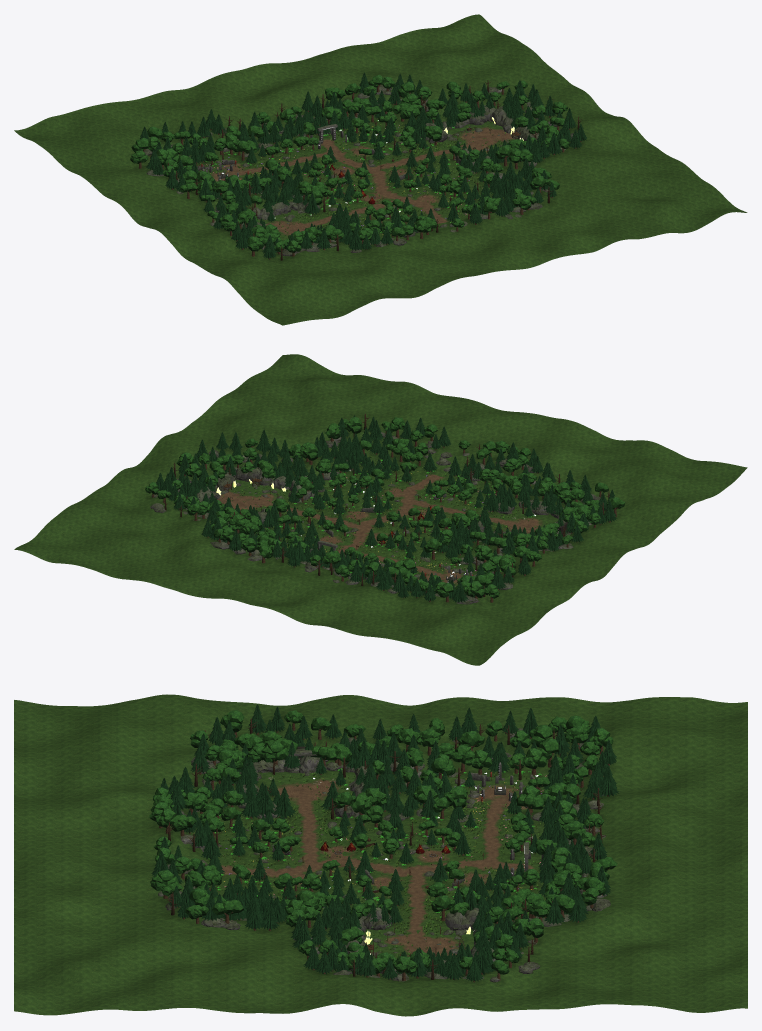
Rendered from wild.glb.
3 renders of one model, top to bottom at view 1: azimuth 30°, elevation 25°; view 2: azimuth 150°, elevation 25°; view 3: azimuth 270°, elevation 25°, orthographic. The views are drawn at different scales.
Parts seen in each view (by area): view 1: ground; view 2: ground; view 3: ground.
Boxes of the visible parts, bbox=[...] form: ground: bbox=[14, 14, 747, 325]; ground: bbox=[14, 354, 747, 665]; ground: bbox=[14, 694, 747, 1016].
Bounding box in the file's own units: 240 × 18.92 × 240.
Materials: 15 (10 with a texture image).
